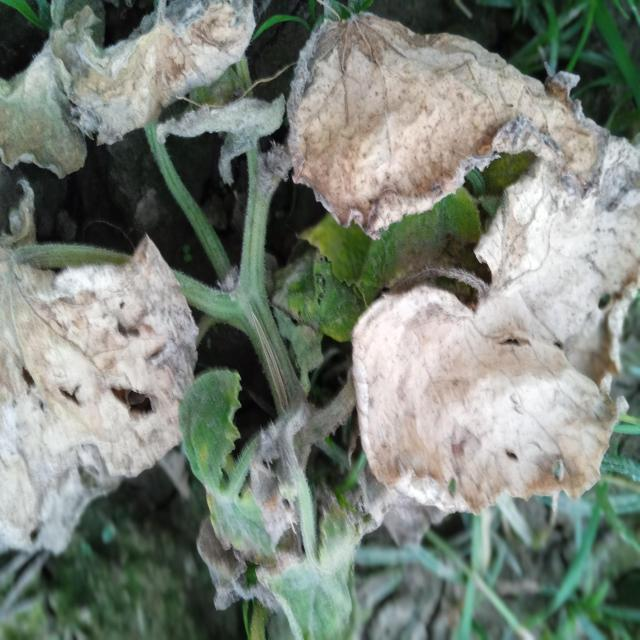cucumber_bacterial: (289, 11, 640, 306), (350, 275, 637, 527), (0, 215, 200, 554), (35, 0, 277, 140)
